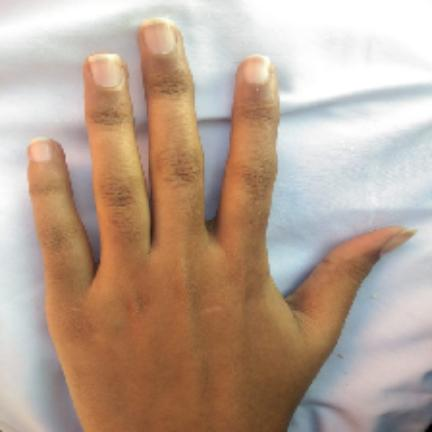Nail: (141, 19, 176, 54), (88, 53, 122, 87), (380, 228, 417, 256), (242, 56, 271, 84), (29, 138, 53, 163)
